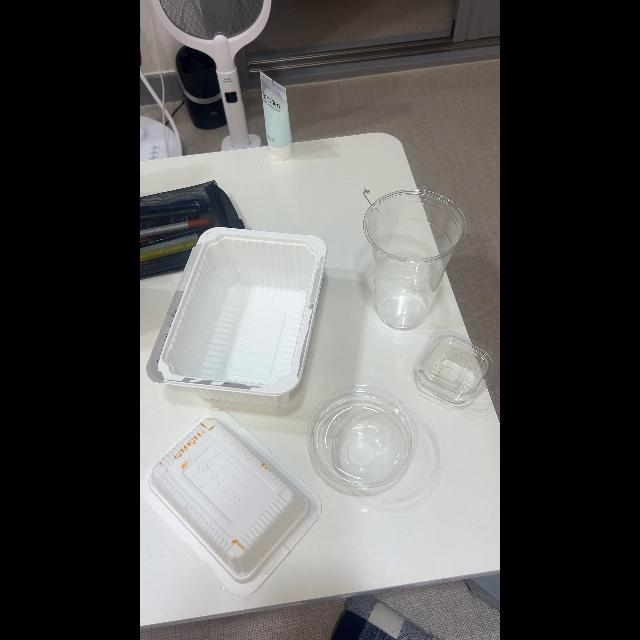clean: (156, 231, 321, 405), (370, 194, 450, 328), (308, 392, 418, 486), (421, 336, 493, 402)
dirty: (153, 412, 287, 584)
